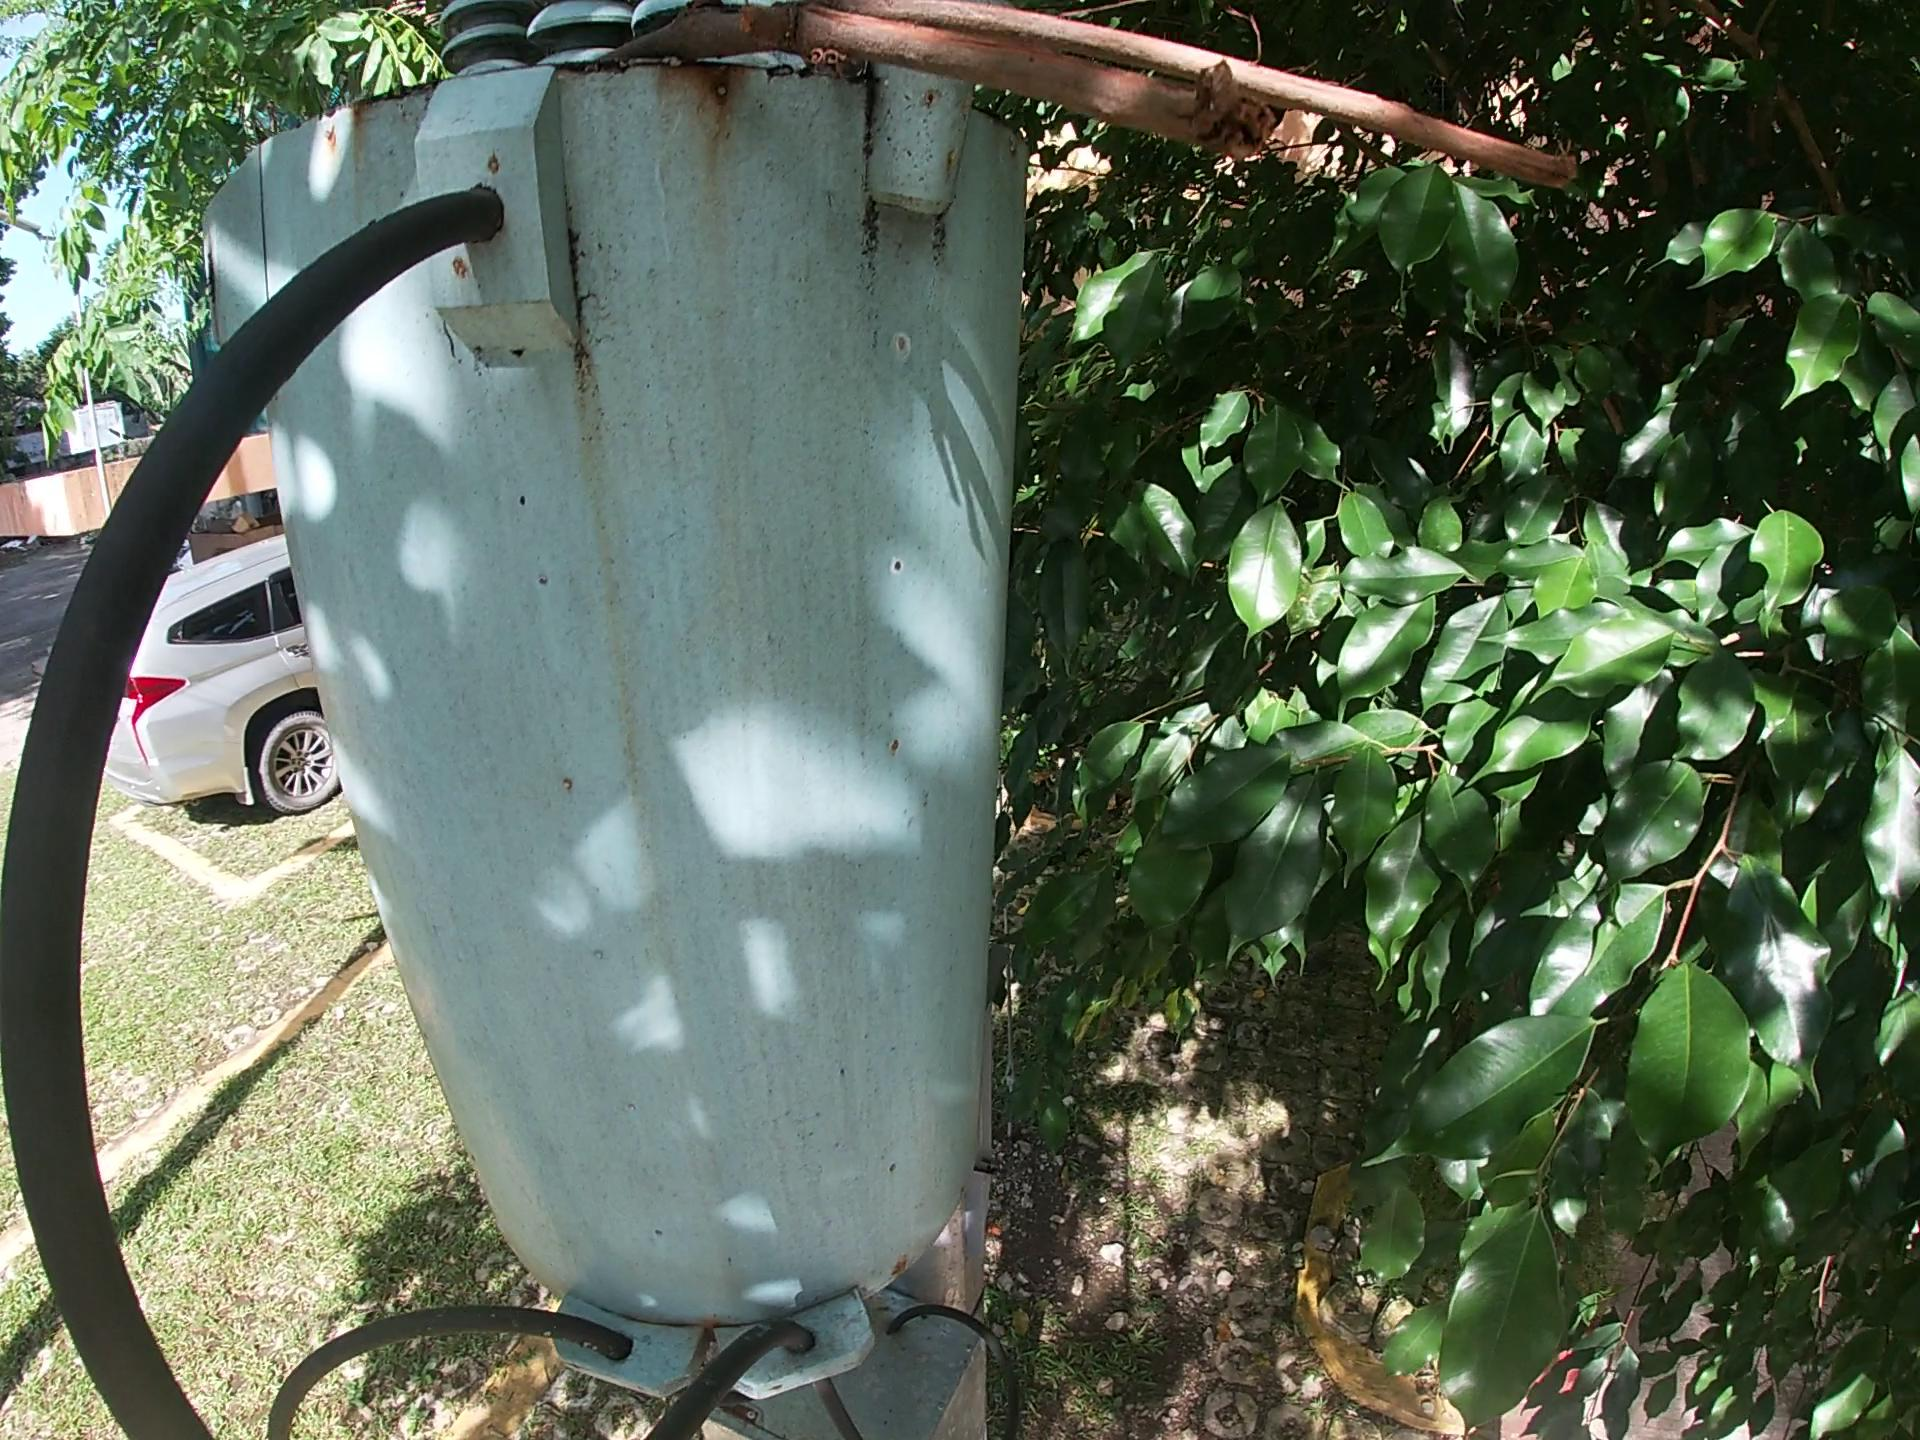tree branch: (565, 2, 1587, 210)
